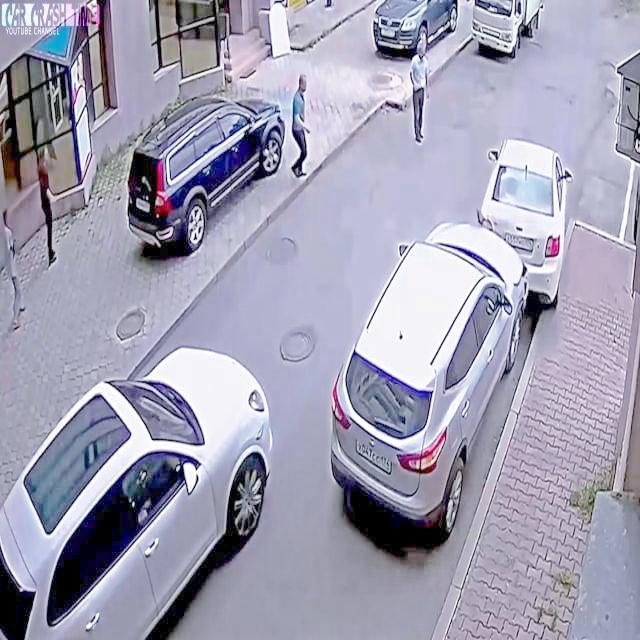Car: (2, 339, 276, 640), (329, 219, 532, 535), (112, 104, 300, 256), (476, 133, 574, 295)
Minor Accident: (330, 127, 582, 535)
